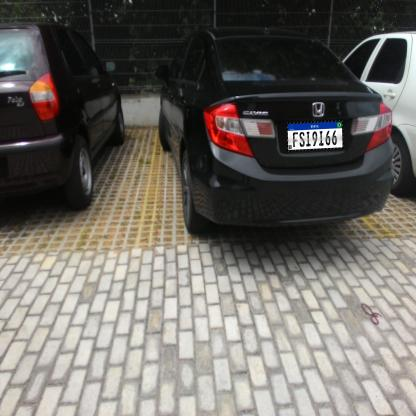PlacaM: (286, 120, 344, 152)
